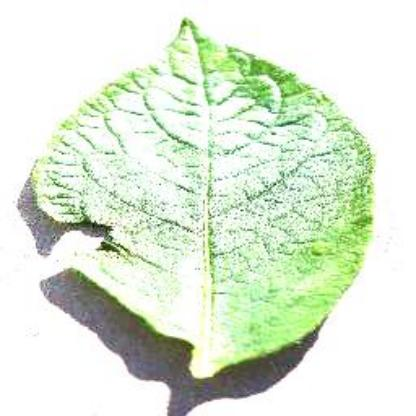Healthy-plant: (28, 13, 382, 382)
